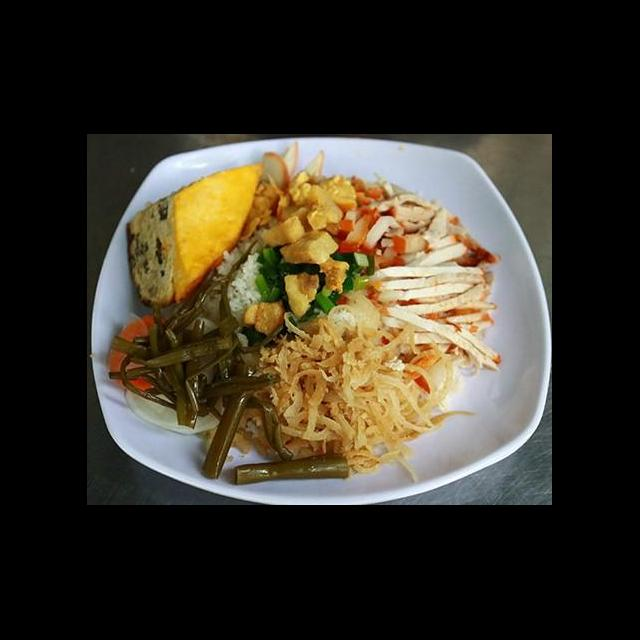bi: (244, 288, 453, 476)
cha: (124, 160, 268, 314)
com: (190, 216, 280, 330)
com suon bi cha: (90, 154, 552, 505)
dua chua: (104, 302, 298, 482), (230, 450, 352, 488)
suon: (334, 172, 504, 280), (364, 262, 504, 374)
